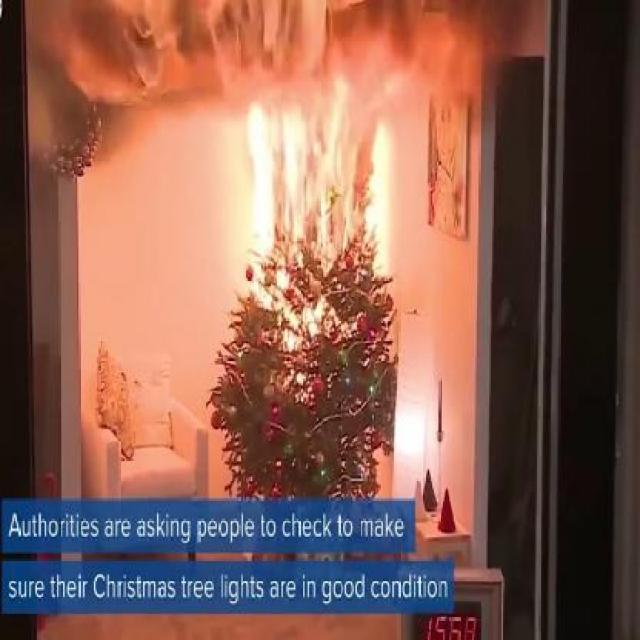fire: (246, 106, 389, 337)
smoke: (28, 0, 252, 134), (344, 0, 518, 132)
